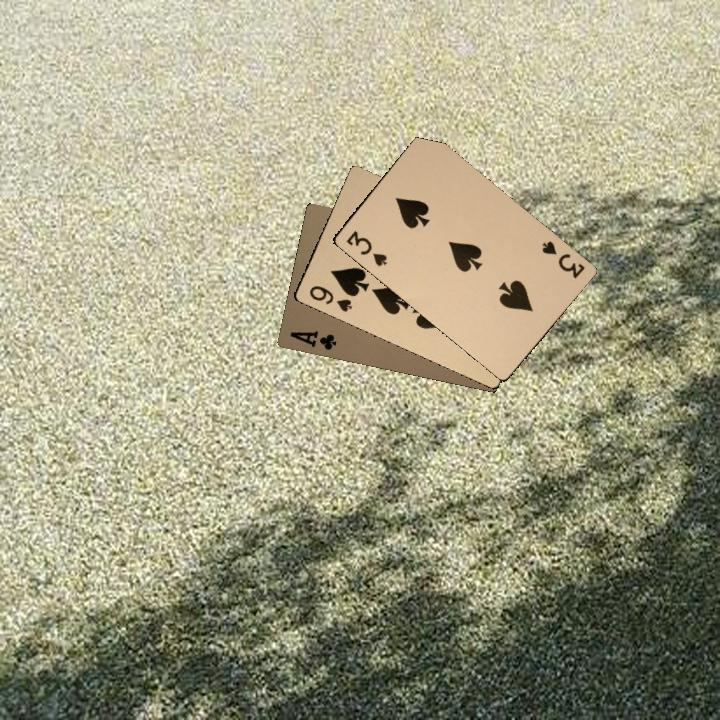3s: (538, 237, 588, 281), (342, 227, 389, 269)
9s: (305, 281, 355, 315)
Ac: (286, 327, 339, 353)
